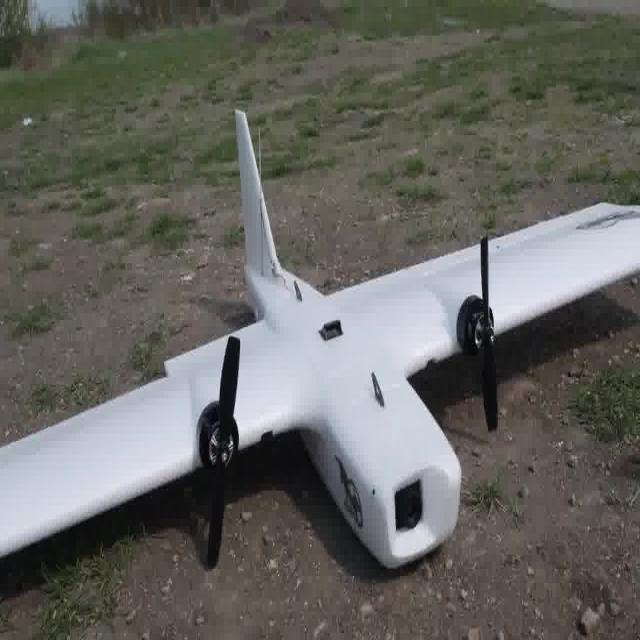iha: (0, 103, 639, 581)
